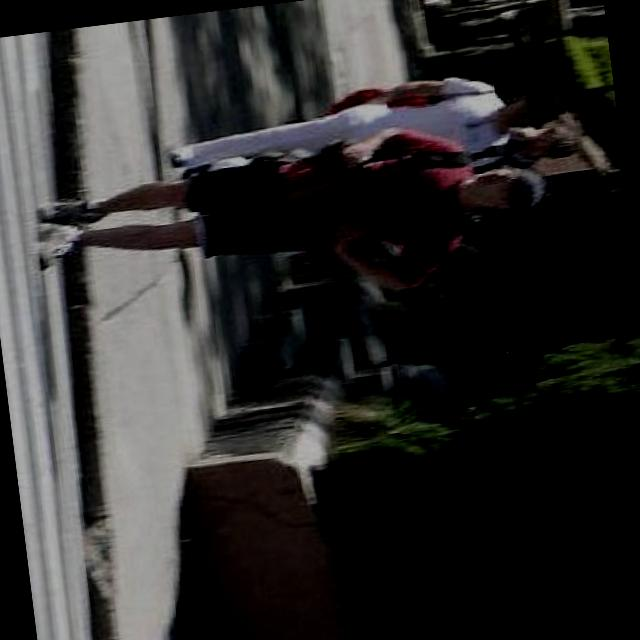Person: (33, 135, 552, 336), (154, 60, 567, 189)
